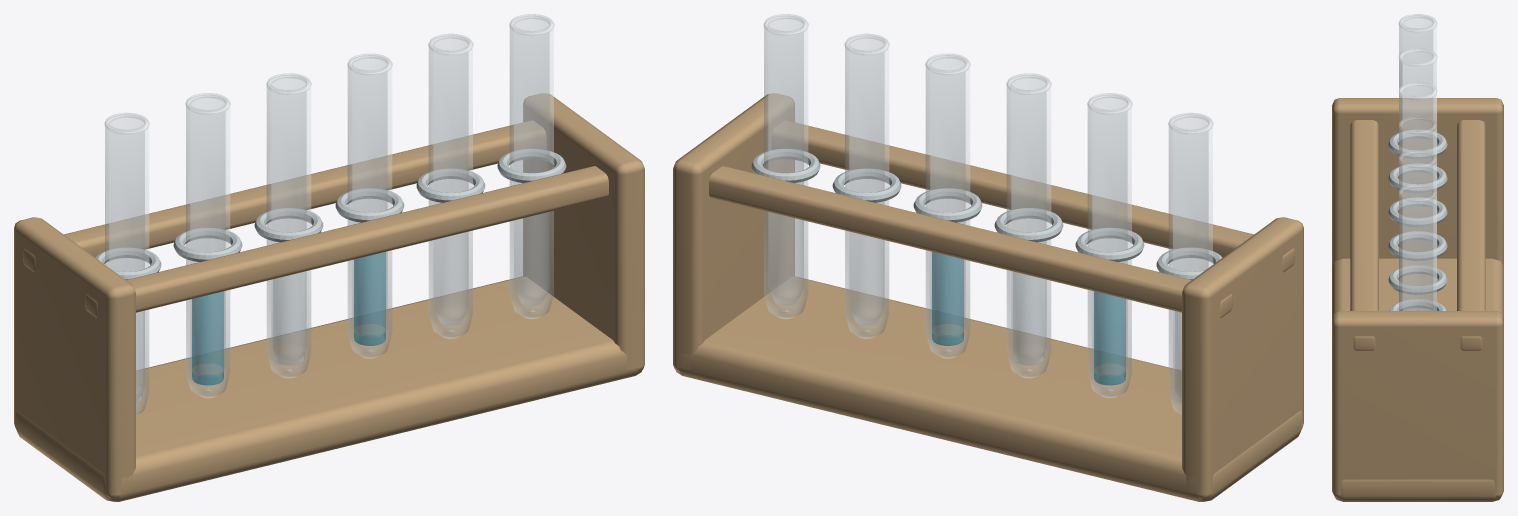
Rendered from test-tube-rack.glb.
3 renders of one model, left to right at view 1: azimuth 30°, elevation 25°; view 2: azimuth 150°, elevation 25°; view 3: azimuth 270°, elevation 25°, orthographic. The views are drawn at different scales.
Visible parts, largest first — view 1: Rack bottom.001, Rack end upright.002, Rack end upright.003, Rack top rail.002, Rack top rail.003, Rounded bottom open test tube.012, Rounded bottom open test tube.011, Rounded bottom open test tube.013, Rounded bottom open test tube.010, Rounded bottom open test tube.009, Rounded bottom open test tube.008, Sample in tube.005 (+8 smaller); view 2: Rack bottom.001, Rack end upright.002, Rack end upright.003, Rack top rail.003, Rack top rail.002, Rounded bottom open test tube.012, Rounded bottom open test tube.011, Rounded bottom open test tube.013, Rounded bottom open test tube.010, Rounded bottom open test tube.009, Rounded bottom open test tube.008, Sample in tube.005 (+8 smaller); view 3: Rack end upright.003, Rack end upright.002, Rack bottom.001, Rack top rail.002, Rack top rail.003, Rounded bottom open test tube.013, Rounded bottom open test tube.012, Rounded bottom open test tube.010, Rounded bottom open test tube.011, Rounded bottom open test tube.009, Rounded bottom open test tube.008, Tube support collar.009 (+11 smaller).
Boxes of the visible parts, left/top/right/bottom form: Rack bottom.001: left=15, top=276, right=642, bottom=501; Rack end upright.002: left=14, top=217, right=135, bottom=499; Rack end upright.003: left=523, top=93, right=644, bottom=371; Rack top rail.002: left=85, top=166, right=608, bottom=317; Rack top rail.003: left=23, top=120, right=546, bottom=272; Rounded bottom open test tube.012: left=429, top=35, right=472, bottom=338; Rounded bottom open test tube.011: left=348, top=55, right=391, bottom=358; Rounded bottom open test tube.013: left=510, top=16, right=553, bottom=318; Rounded bottom open test tube.010: left=267, top=75, right=310, bottom=377; Rounded bottom open test tube.009: left=186, top=95, right=229, bottom=397; Rounded bottom open test tube.008: left=105, top=114, right=148, bottom=414; Sample in tube.005: left=192, top=291, right=223, bottom=385; Rack bottom.001: left=675, top=276, right=1302, bottom=501; Rack end upright.002: left=1182, top=217, right=1303, bottom=499; Rack end upright.003: left=673, top=93, right=794, bottom=371; Rack top rail.003: left=709, top=166, right=1232, bottom=317; Rack top rail.002: left=771, top=120, right=1294, bottom=272; Rounded bottom open test tube.012: left=845, top=35, right=888, bottom=338; Rounded bottom open test tube.011: left=926, top=55, right=969, bottom=358; Rounded bottom open test tube.013: left=764, top=16, right=807, bottom=318; Rounded bottom open test tube.010: left=1007, top=75, right=1050, bottom=377; Rounded bottom open test tube.009: left=1088, top=95, right=1131, bottom=397; Rounded bottom open test tube.008: left=1169, top=114, right=1212, bottom=414; Sample in tube.005: left=1094, top=291, right=1125, bottom=385; Rack end upright.003: left=1332, top=311, right=1503, bottom=497; Rack end upright.002: left=1332, top=98, right=1503, bottom=265; Rack bottom.001: left=1332, top=258, right=1503, bottom=501; Rack top rail.002: left=1350, top=120, right=1378, bottom=350; Rack top rail.003: left=1457, top=120, right=1485, bottom=350; Rounded bottom open test tube.013: left=1399, top=185, right=1436, bottom=310; Rounded bottom open test tube.012: left=1399, top=151, right=1436, bottom=301; Rounded bottom open test tube.010: left=1399, top=83, right=1436, bottom=155; Rounded bottom open test tube.011: left=1399, top=117, right=1436, bottom=189; Rounded bottom open test tube.009: left=1399, top=49, right=1436, bottom=121; Rounded bottom open test tube.008: left=1399, top=15, right=1436, bottom=87; Tube support collar.009: left=1388, top=231, right=1447, bottom=260.
Size of the model in its own units: 0.28 by 0.1662 by 0.09.
